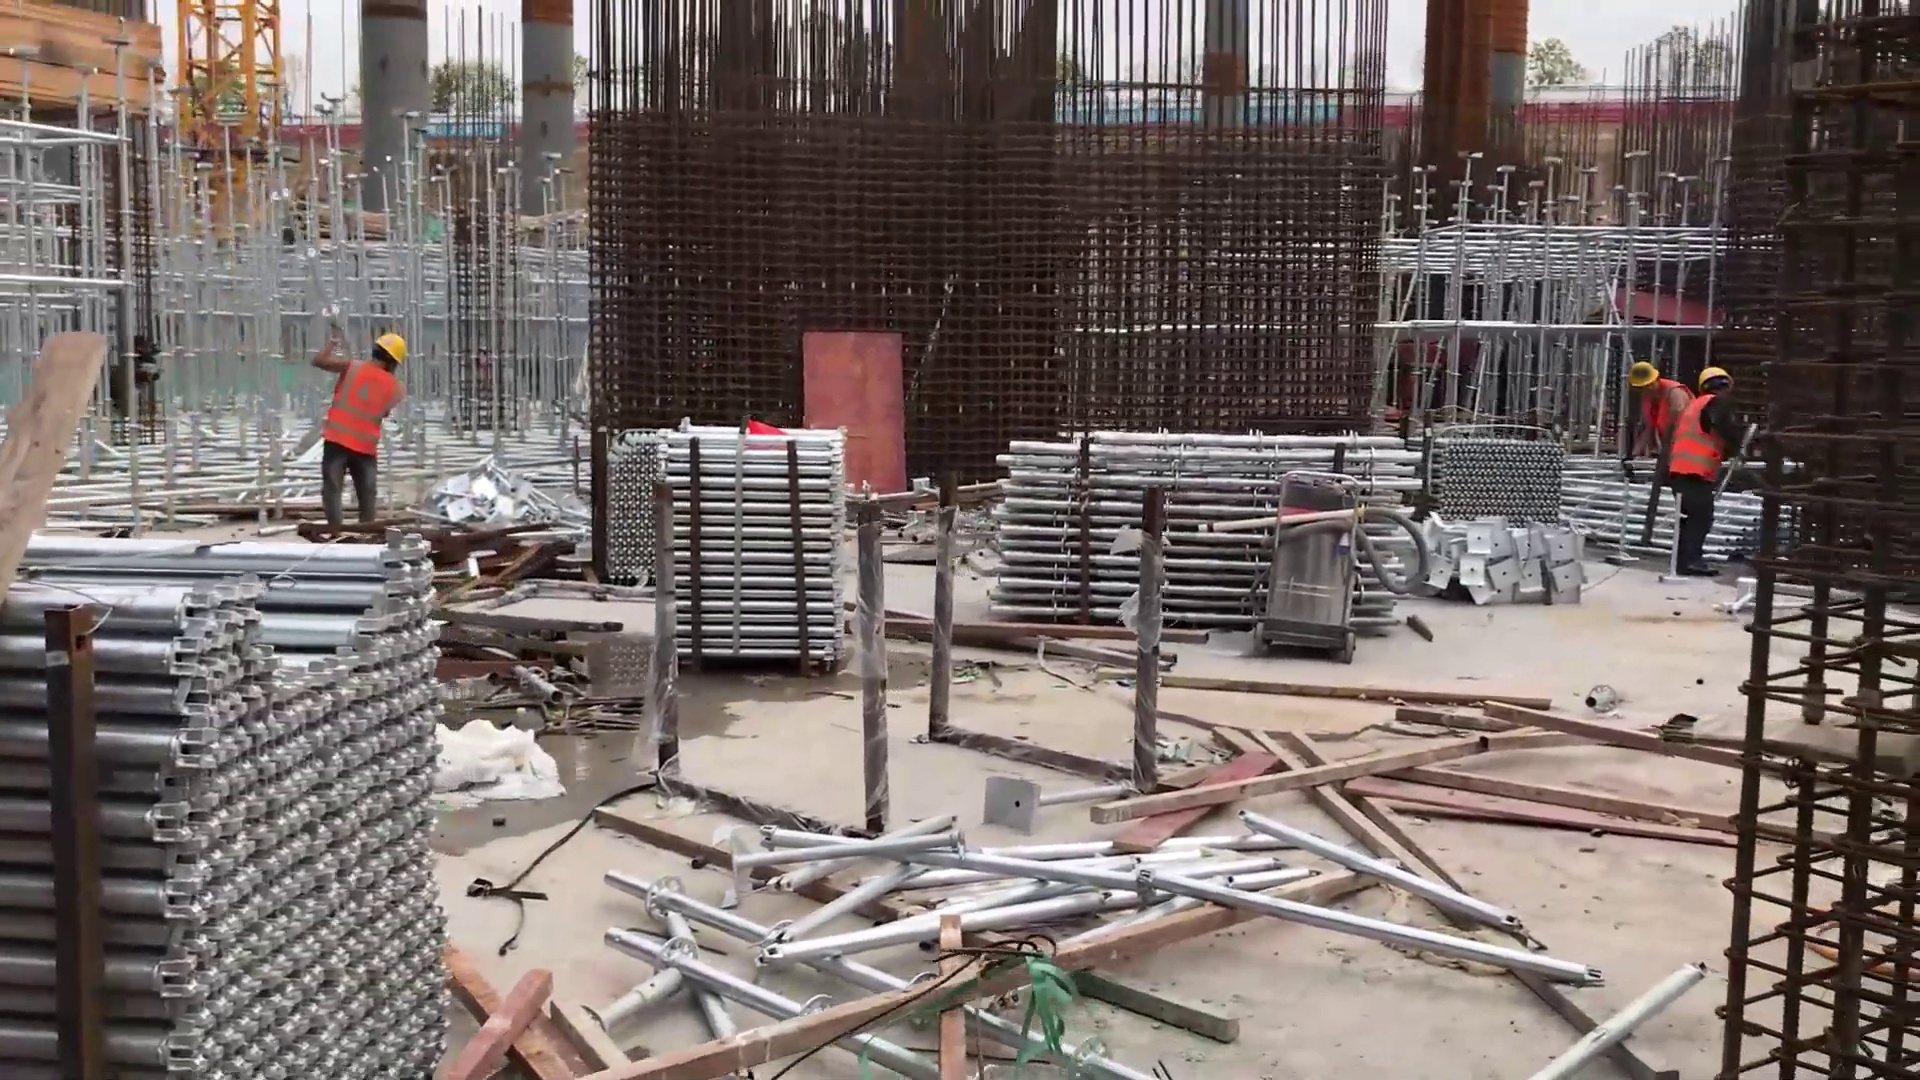board: (1, 7, 170, 122)
fence: (242, 88, 1770, 145)
helmet: (374, 329, 411, 361), (1695, 364, 1732, 389), (1631, 357, 1658, 385)
person: (317, 309, 404, 547), (1678, 357, 1742, 581), (1633, 360, 1692, 548)
scaffold: (2, 531, 445, 1080), (994, 429, 1416, 635), (657, 425, 846, 676), (1599, 474, 1796, 558), (1423, 433, 1572, 534), (603, 429, 675, 607)
slogan: (1042, 100, 1337, 146), (415, 117, 508, 153)
vest: (326, 356, 399, 454), (1673, 389, 1718, 477), (1635, 377, 1686, 446)
